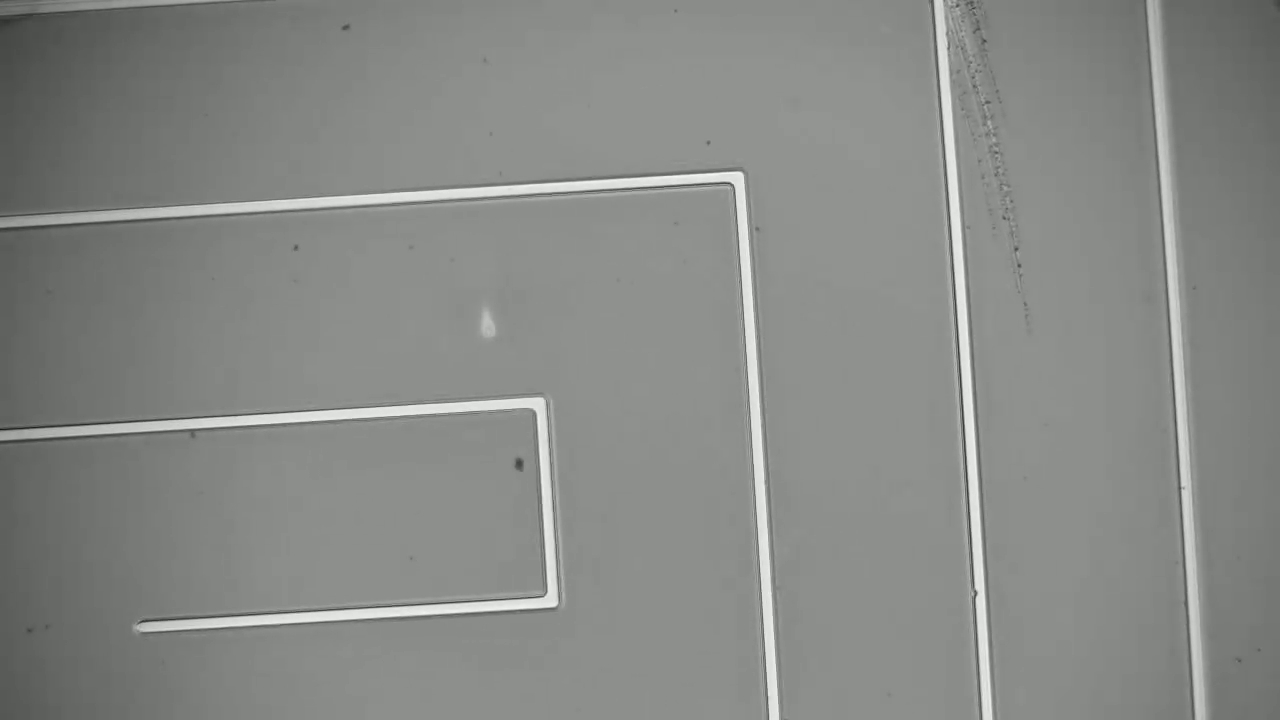scratch: (943, 1, 1031, 322)
